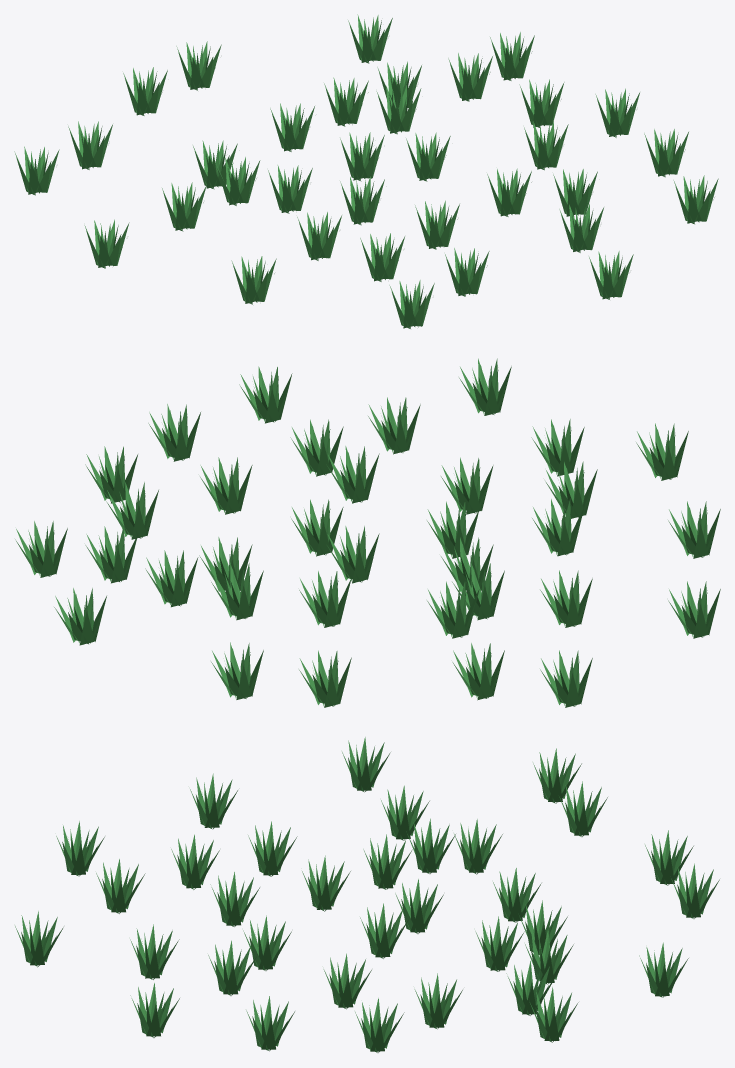
The picture shows the model from 3 angles, top to bottom: view 1: azimuth 30°, elevation 25°; view 2: azimuth 150°, elevation 25°; view 3: azimuth 270°, elevation 25°; orthographic projection. The views are drawn at different scales.
Parts seen in each view (by area): view 1: Plane.017, Plane.025, Plane.023, Plane.012, Plane.011, Plane.022, Plane.008, Plane.009, Plane.018, Plane.021, Plane.030, Plane.002 (+22 smaller); view 2: Plane.022, Plane.028, Plane.005, Plane.011, Plane.023, Plane.025, Plane.034, Plane.012, Plane.009, Plane.033, Plane.014, Plane.008 (+22 smaller); view 3: Plane.006, Plane.013, Plane.027, Plane.015, Plane.021, Plane.028, Plane.005, Plane.024, Plane.007, Plane.019, Plane.020, Plane.022 (+22 smaller).
Boxes of the visible parts, x1,y1,x2,y2 form: Plane.017: (448,53,492,101); Plane.025: (644,129,688,177); Plane.023: (324,77,368,126); Plane.012: (162,182,206,231); Plane.011: (270,103,314,151); Plane.022: (68,121,112,169); Plane.008: (231,256,276,304); Plane.009: (123,67,167,115); Plane.018: (340,132,384,181); Plane.021: (176,41,221,90); Plane.030: (389,280,434,328); Plane.002: (376,85,421,134); Plane.022: (452,643,504,700); Plane.028: (459,358,511,415); Plane.005: (427,581,479,638); Plane.011: (299,571,351,627); Plane.023: (211,562,263,620); Plane.025: (148,404,200,461); Plane.034: (145,550,198,607); Plane.012: (540,570,592,627); Plane.009: (299,650,351,707); Plane.033: (54,588,106,645); Plane.014: (532,498,584,556); Plane.008: (668,501,720,558); Plane.006: (342,737,390,792); Plane.013: (360,903,408,958); Plane.027: (130,924,179,979); Plane.015: (208,940,256,995); Plane.021: (671,863,719,918); Plane.028: (15,911,63,967); Plane.005: (454,819,502,874); Plane.024: (406,818,455,873); Plane.007: (302,855,350,911); Plane.019: (355,998,404,1052); Plane.020: (243,915,291,970); Plane.022: (559,781,607,836).
Bounding box in the file's own units: 1.45 × 0.1036 × 1.53.
